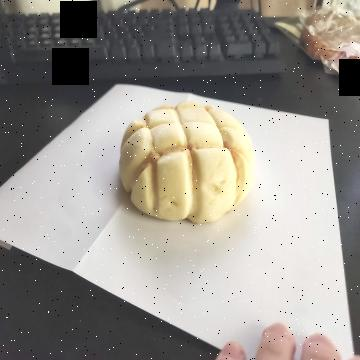melon_bread: (119, 100, 256, 228)
